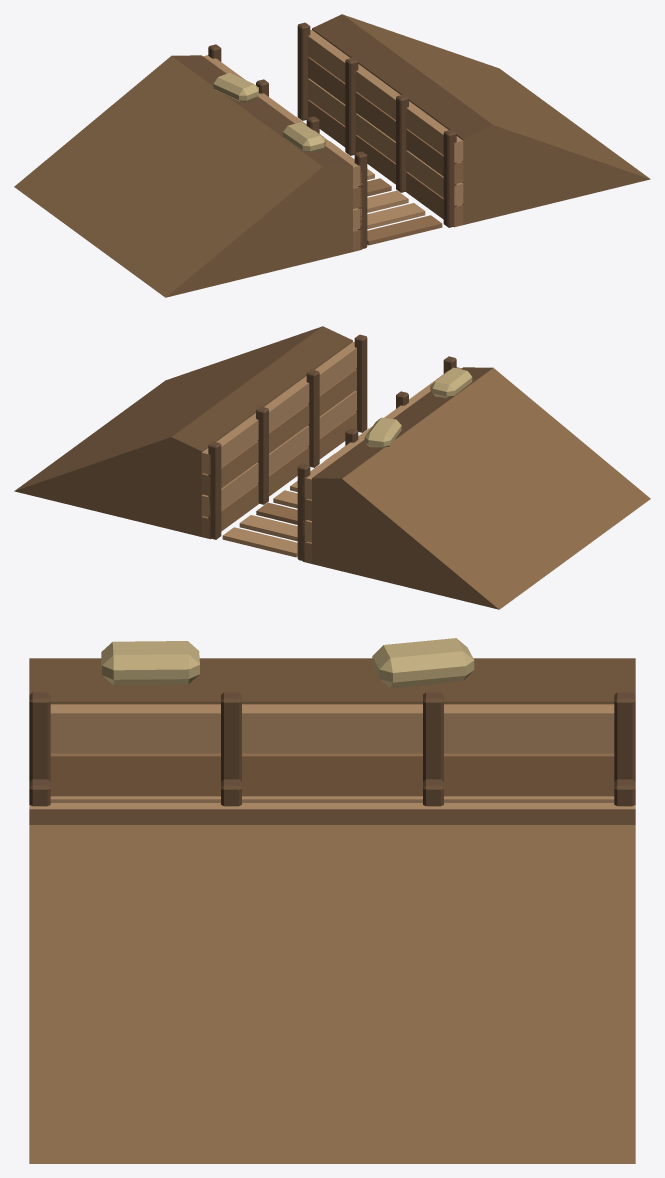
Rendered from trench_straight.glb.
3 views of the same model, one above another, from view 1: azimuth 30°, elevation 25°; view 2: azimuth 150°, elevation 25°; view 3: azimuth 270°, elevation 25° (orthographic). The views are drawn at different scales.
Visible parts, largest first — view 1: LOD0; view 2: LOD0; view 3: LOD0.
Part boxes in pixels (box(x1,y1,x2,y2)): LOD0: box(14, 14, 650, 297); LOD0: box(14, 326, 650, 609); LOD0: box(29, 638, 635, 1163).
Size of what is drawn, in the model's own units: 7.4 by 1.51 by 4.
Materials: 1 (1 with a texture image).
